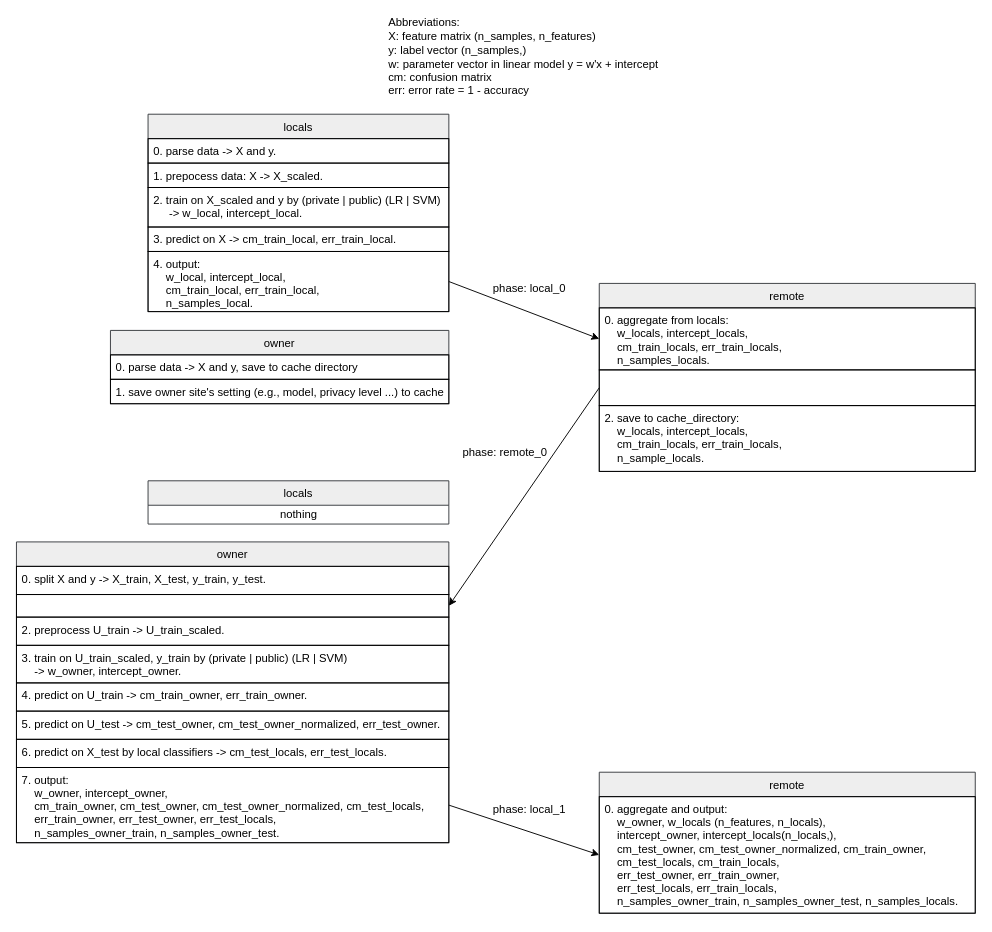
The diagram is 992 pixels wide and 932 high, and some of its shapes have lost their labels. The shapes that lost their labels are listed below. From the top down, each one's box as (x1, y1, x2, y2) in pixels, then its label:
(598, 369, 975, 406): 1. output: w_locals, intercept_locals.
(16, 594, 449, 617): 1. calculate soft prediction u = w'x + intercept -> U_train, U_test.
